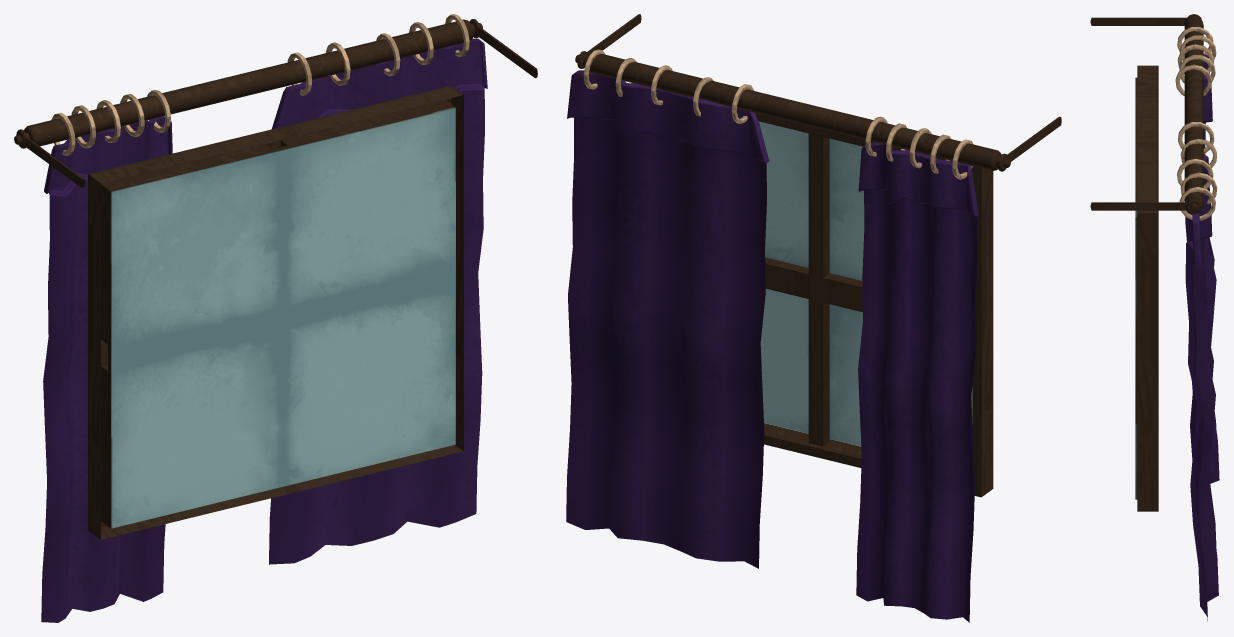
The model's file is anim1.fbx.
The picture shows the model from 3 angles, left to right: view 1: azimuth 30°, elevation 25°; view 2: azimuth 150°, elevation 25°; view 3: azimuth 270°, elevation 25°; orthographic projection. The views are drawn at different scales.
Visible parts, largest first — view 1: Ventana1, Cortina2__1_, Cortina2__1__1, soporte1; view 2: Cortina2__1_, Cortina2__1__1, Ventana1, soporte1; view 3: Ventana1, Cortina2__1_, soporte1, Cortina2__1__1, anillo1, anillo1__11_, anillo1__4_, anillo1__7_, anillo1__1_, anillo1__2_, anillo1__3_, anillo1__10_ (+2 smaller).
Part boxes in pixels (left/top/right/bottom): Ventana1: left=88, top=85, right=463, bottom=539; Cortina2__1_: left=269, top=38, right=487, bottom=564; Cortina2__1__1: left=41, top=116, right=172, bottom=622; soporte1: left=14, top=19, right=537, bottom=188; Cortina2__1_: left=566, top=70, right=769, bottom=568; Cortina2__1__1: left=856, top=142, right=978, bottom=622; Ventana1: left=755, top=113, right=993, bottom=497; soporte1: left=575, top=14, right=1061, bottom=171; Ventana1: left=1135, top=65, right=1158, bottom=511; Cortina2__1_: left=1184, top=142, right=1218, bottom=621; soporte1: left=1090, top=14, right=1203, bottom=213; Cortina2__1__1: left=1192, top=54, right=1219, bottom=483; anillo1: left=1179, top=187, right=1215, bottom=220; anillo1__11_: left=1175, top=64, right=1211, bottom=95; anillo1__4_: left=1178, top=122, right=1214, bottom=153; anillo1__7_: left=1177, top=158, right=1213, bottom=188; anillo1__1_: left=1180, top=139, right=1216, bottom=168; anillo1__2_: left=1180, top=172, right=1217, bottom=203; anillo1__3_: left=1179, top=55, right=1215, bottom=83; anillo1__10_: left=1177, top=44, right=1213, bottom=74.
Bounding box in the file's own units: 2.28 × 2.37 × 0.6445.
1 material, 1 textured.
